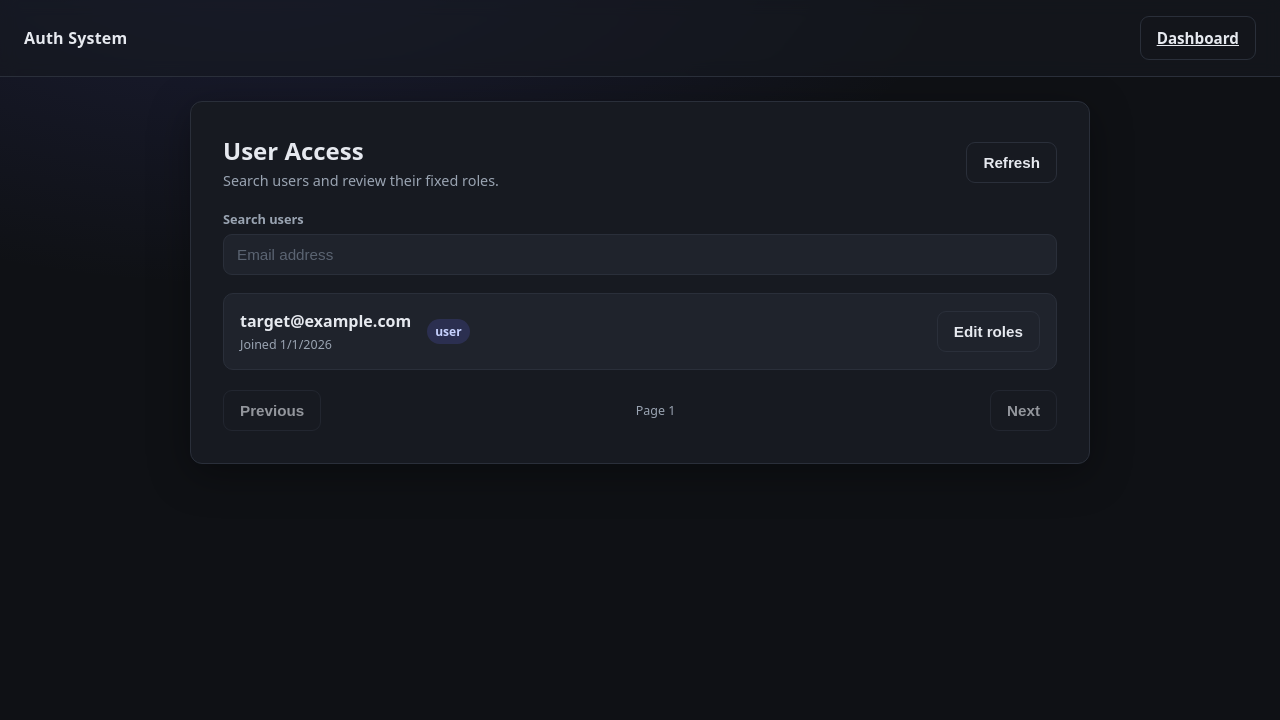
Test: permission-based frontend authorization › searches users and updates assignments from fixed roles
Expected: the text "target@example.com" is shown, [240,310,411,332]
Type "target" into the search field labelled "Search users". click: (640, 254)
box: [223,234,1057,275]
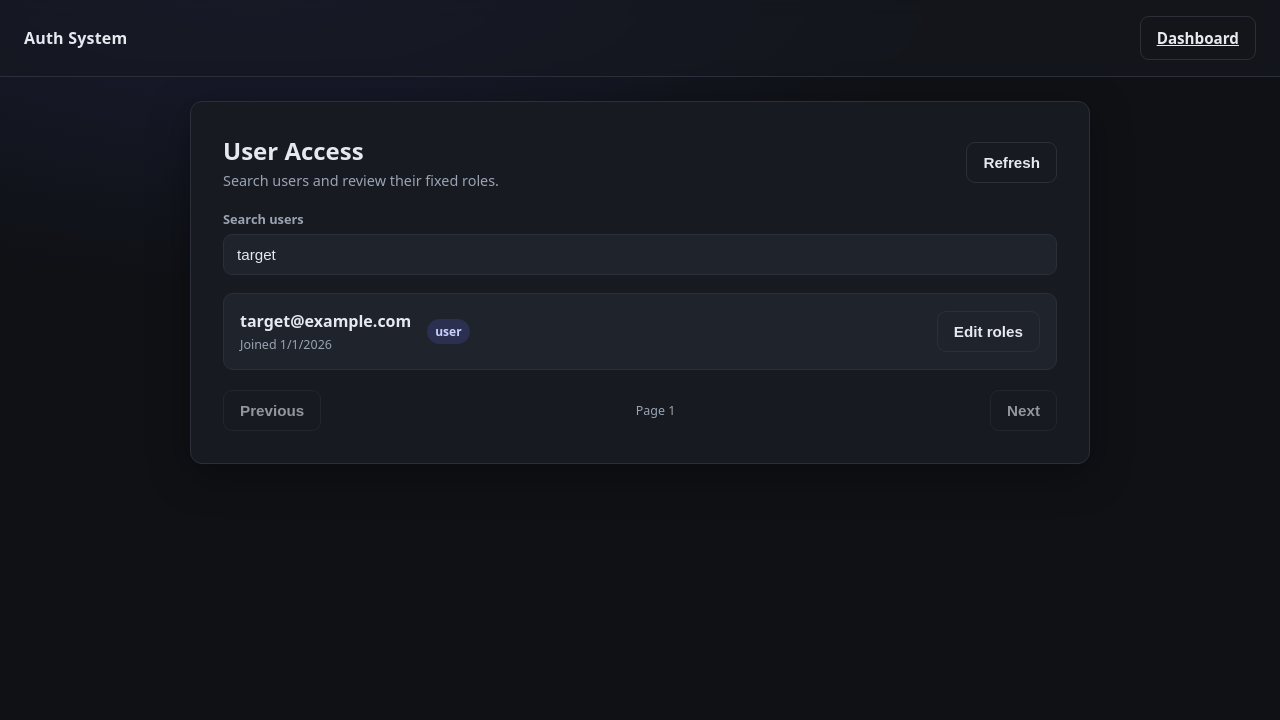
Click the button "Edit roles". click: (988, 332)
box: [937,311,1040,352]
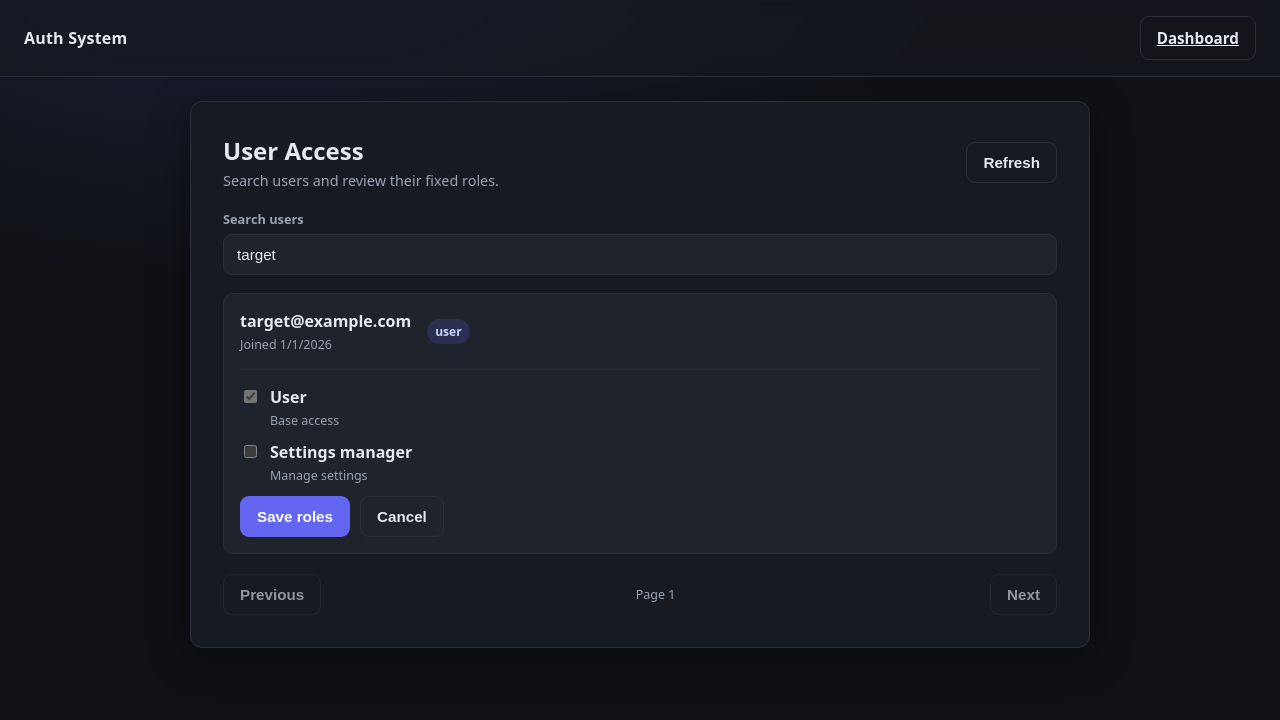
Click the checkbox labelled "Settings manager Manage settings". click: (250, 452)
box: [244,445,257,458]
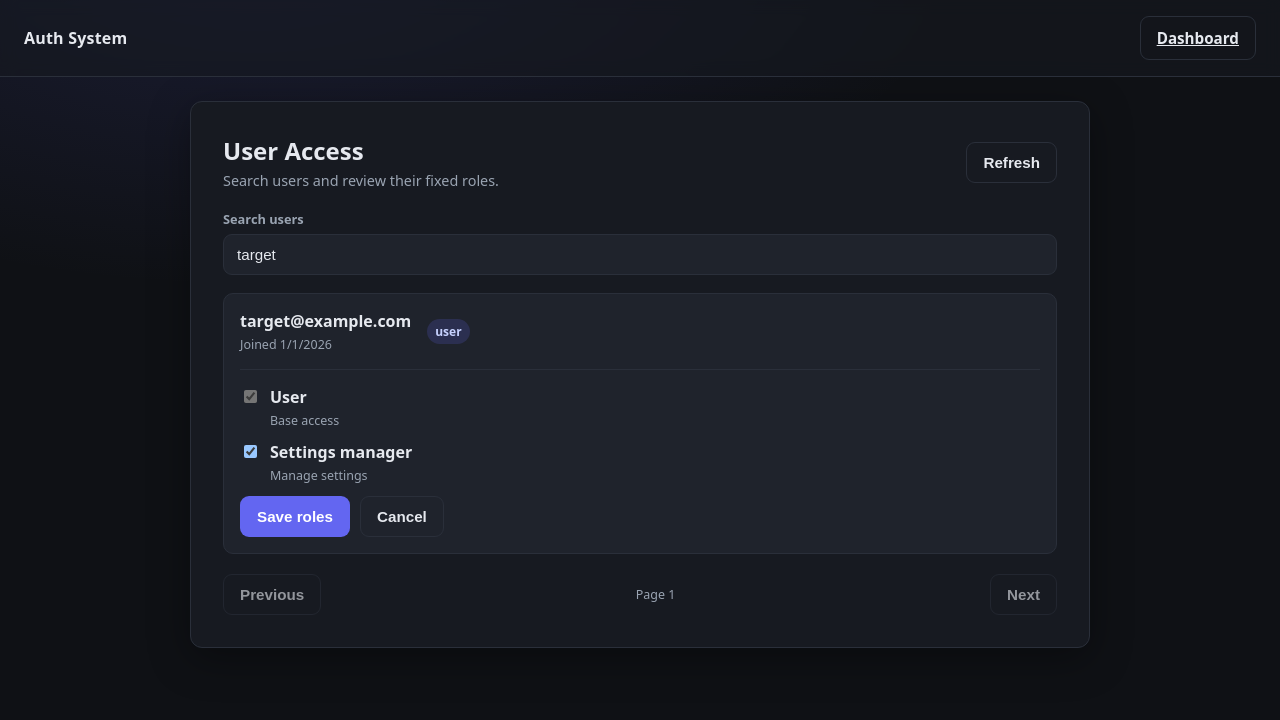
Click the button "Save roles". click: (295, 516)
box: [240,496,350,537]
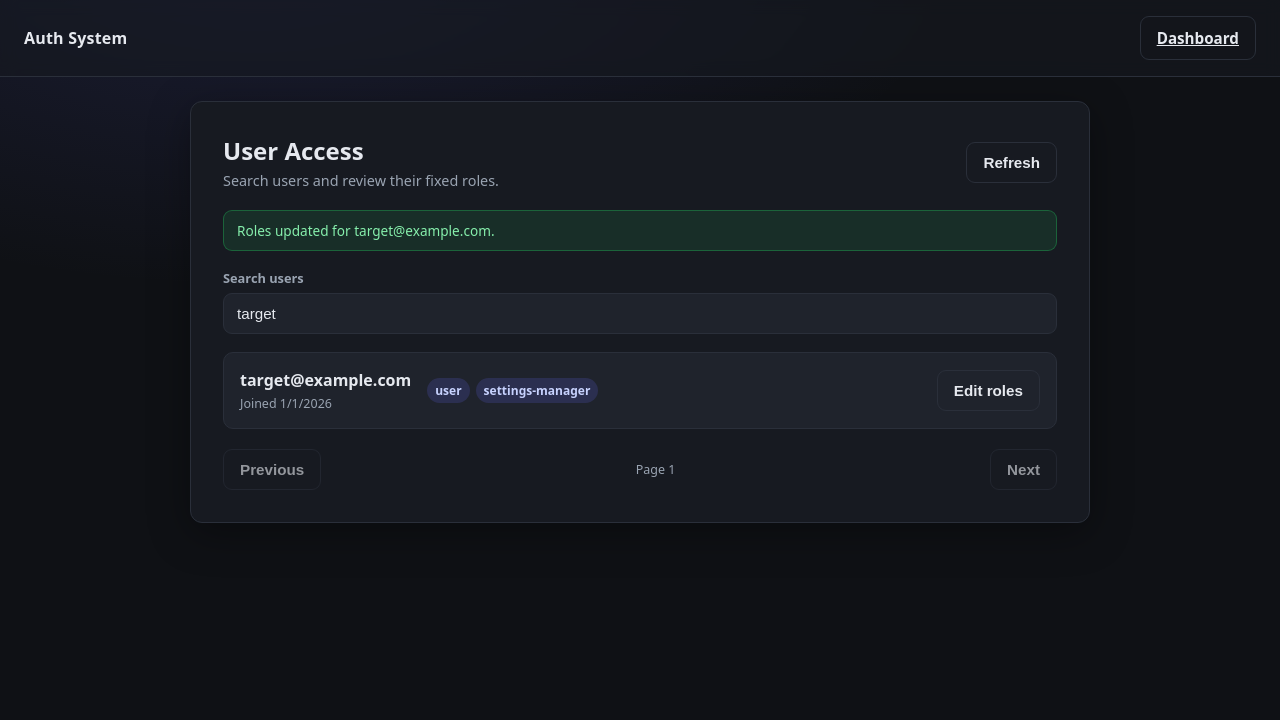
Result: the text "Roles updated for target@example.com." is shown at [223,210,1057,251]
